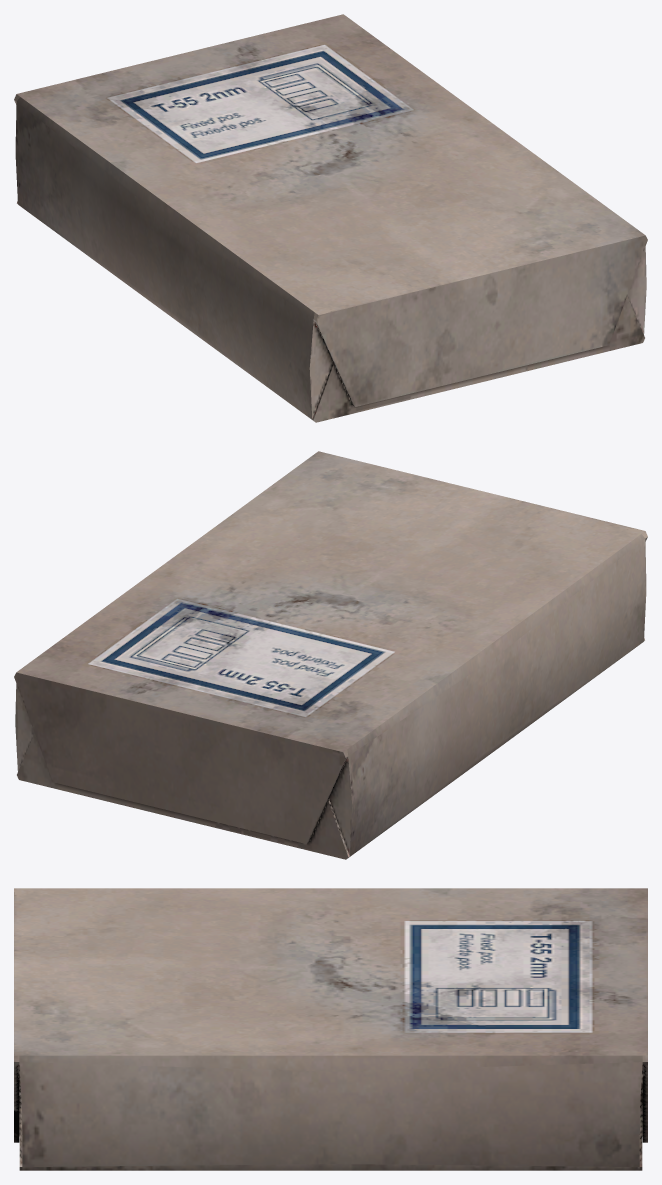
The model's file is package_paper.DAE.
The picture shows the model from 3 angles, top to bottom: view 1: azimuth 30°, elevation 25°; view 2: azimuth 150°, elevation 25°; view 3: azimuth 270°, elevation 25°; orthographic projection. The views are drawn at different scales.
Visible parts, largest first — view 1: package_paper; view 2: package_paper; view 3: package_paper.
Boxes of the visible parts, x1=… form: package_paper: x1=14, y1=14, x2=647, y2=422; package_paper: x1=14, y1=451, x2=647, y2=859; package_paper: x1=14, y1=888, x2=647, y2=1170.
Size of the model in its own units: 7.82 by 2.43 by 12.14.
